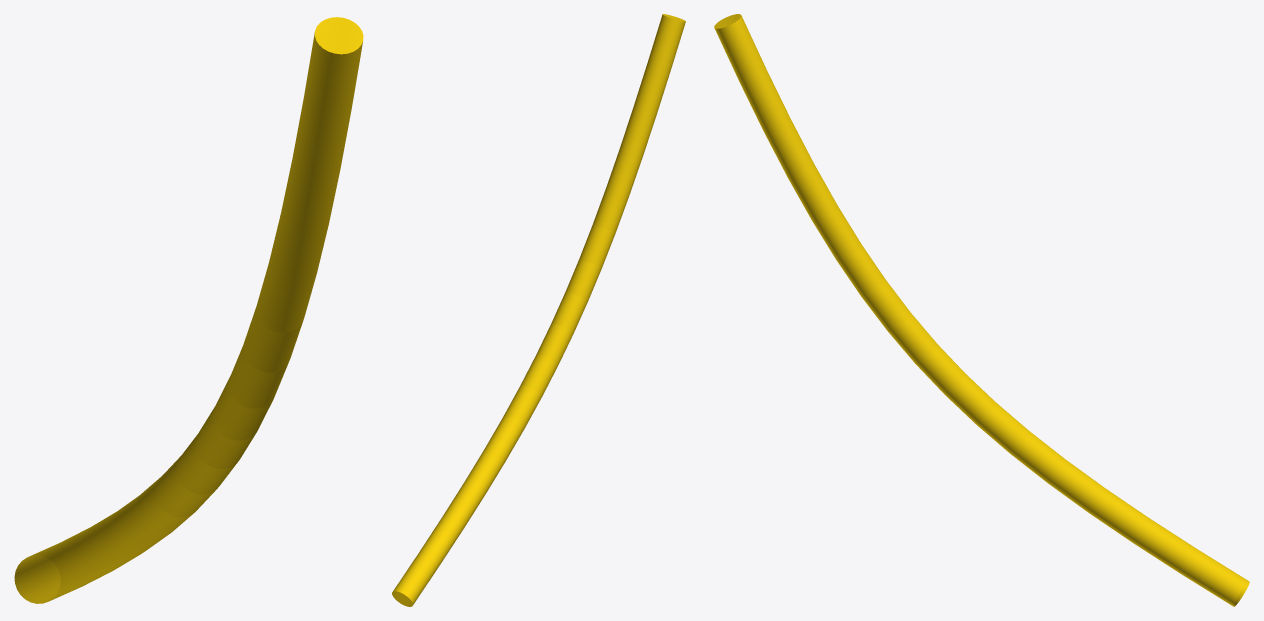
Rendered from Event_421115418_track_82.fbx.
3 renders of one model, left to right at view 1: azimuth 30°, elevation 25°; view 2: azimuth 150°, elevation 25°; view 3: azimuth 270°, elevation 25°, orthographic. The views are drawn at different scales.
Visible parts, largest first — view 1: Model; view 2: Model; view 3: Model.
Part boxes in pixels (left/top/right/bottom): Model: left=14, top=17, right=363, bottom=603; Model: left=392, top=14, right=685, bottom=606; Model: left=714, top=14, right=1249, bottom=606.
Size of the model in its own units: 0.1532 by 0.8171 by 0.716.
